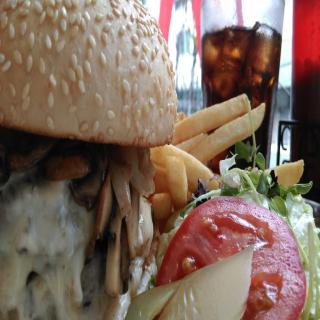French fries: (146, 93, 304, 228)
Hamburger: (0, 0, 178, 319)
